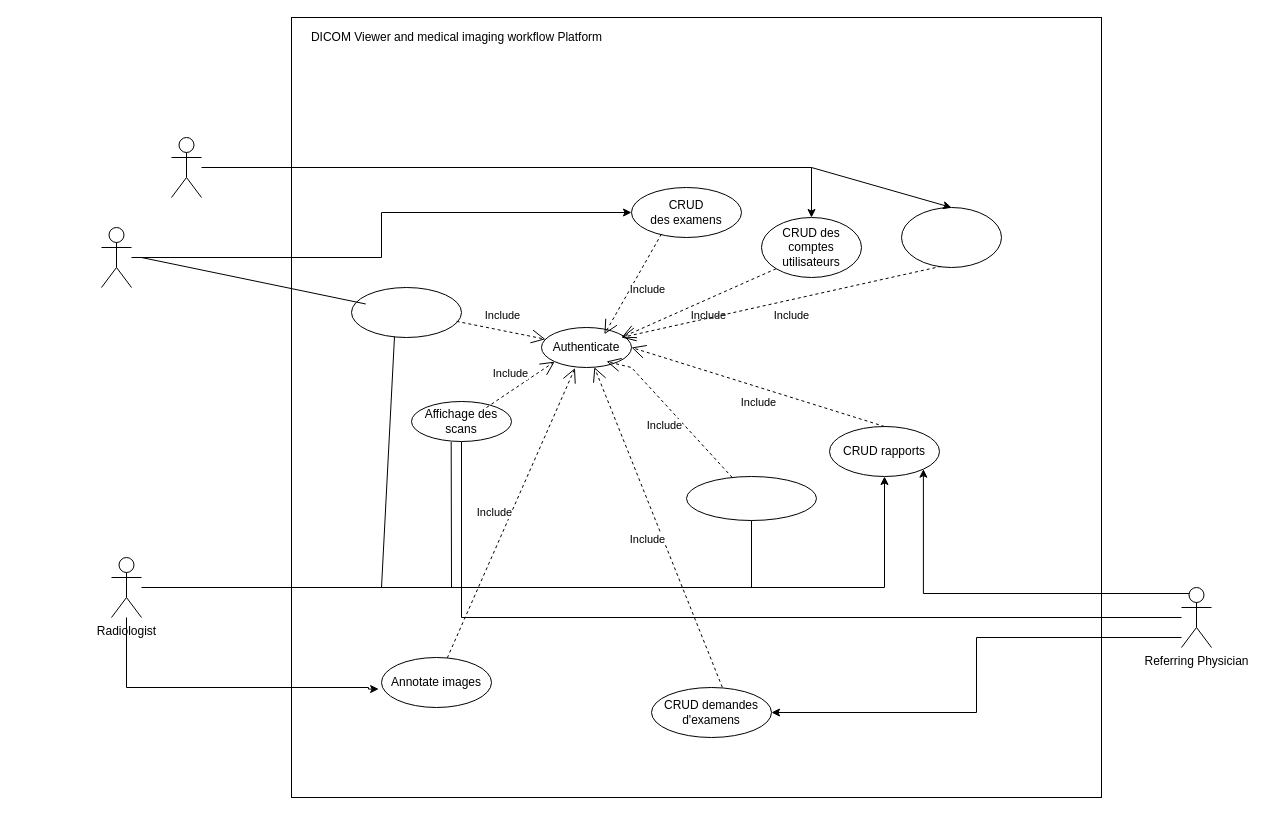
Image size: 1266x815. Some labels were removed from this diagram. The box of each missing label's shape, as (x1, y1, x2, y2) in pixels:
Affichage demandes examnes: (686, 476, 816, 520)
CRUD des fichiers DICOM: (900, 206, 1002, 268)
Head of Medical Imaging Department: (100, 226, 132, 288)
IT Administrator: (170, 136, 202, 198)
Lecture rapports radiologue: (350, 286, 462, 338)
